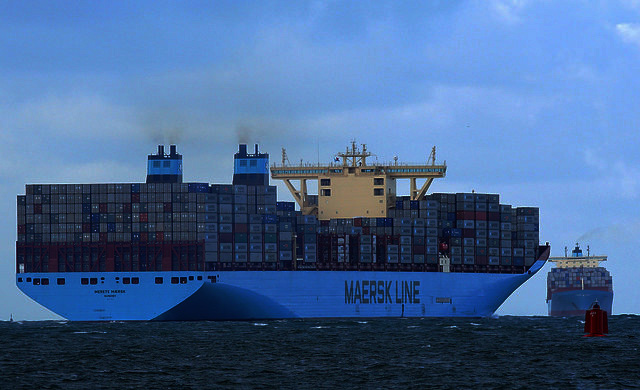container_ship: (13, 138, 550, 319), (549, 231, 615, 315)
